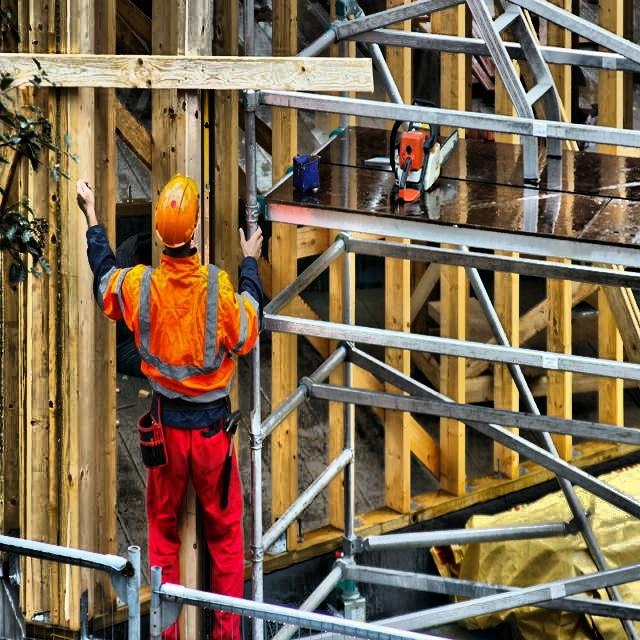person: (76, 175, 264, 606)
